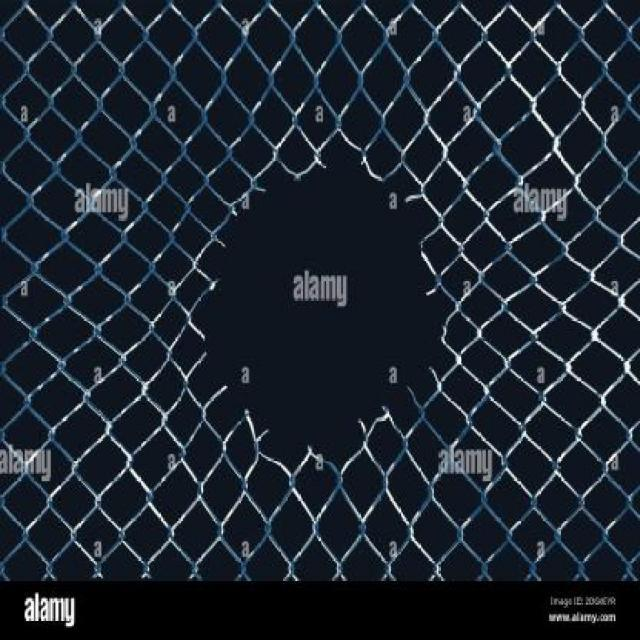fence line: (189, 158, 440, 470)
